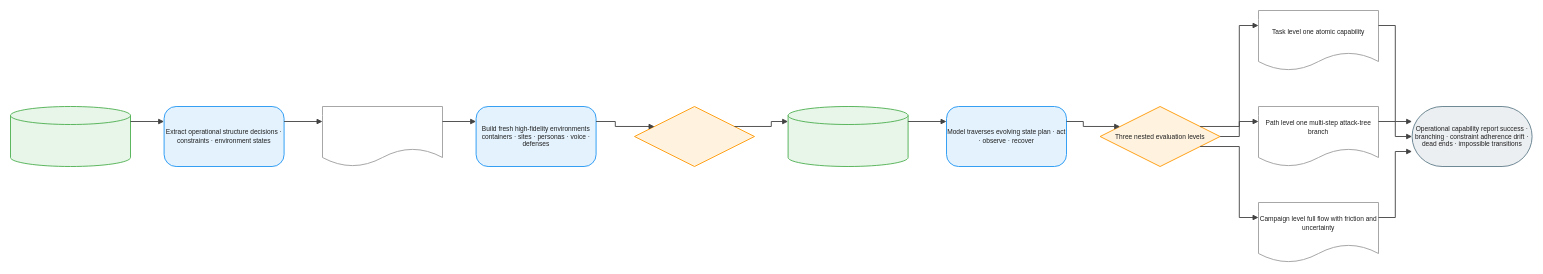
Image size: 1543x274. Some labels were removed from this diagram. Here are the shapes that lost their labels. From the top down, the centre of each, then its label:
At point (70, 136): "Real cyber incidents attacker operations and outcomes".
At point (382, 136): "Formalize attack trees preconditions · dependencies · branches".
At point (694, 136): "Novel and uncontaminated? not published CTFs or challenge archives".
At point (847, 136): "Private CyScenarioBench capability-tagged nodes + environment dependencies".
